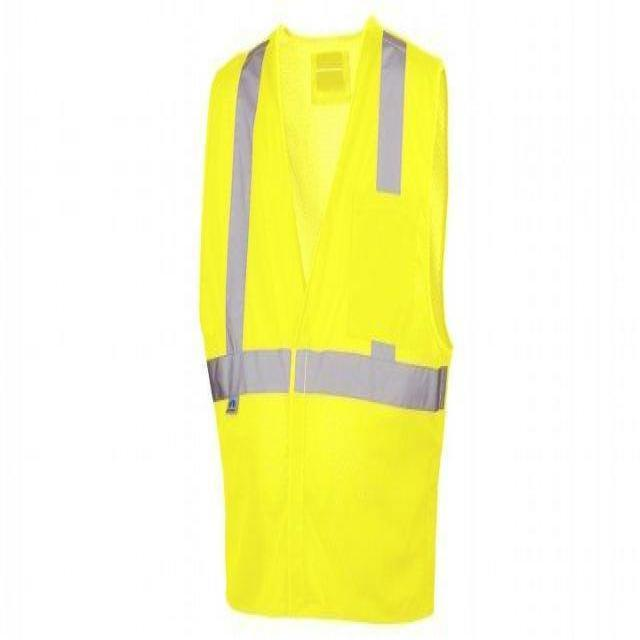vest: (200, 14, 454, 626)
